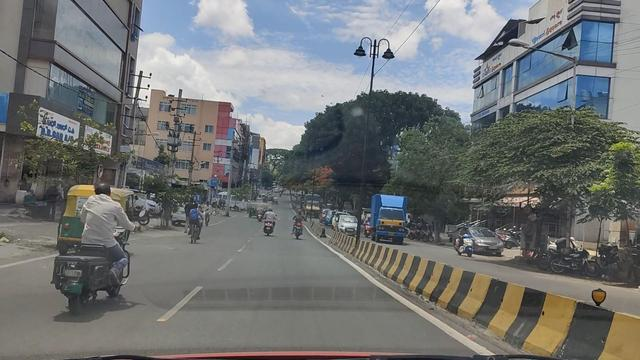LMV: (72, 174, 138, 325)
